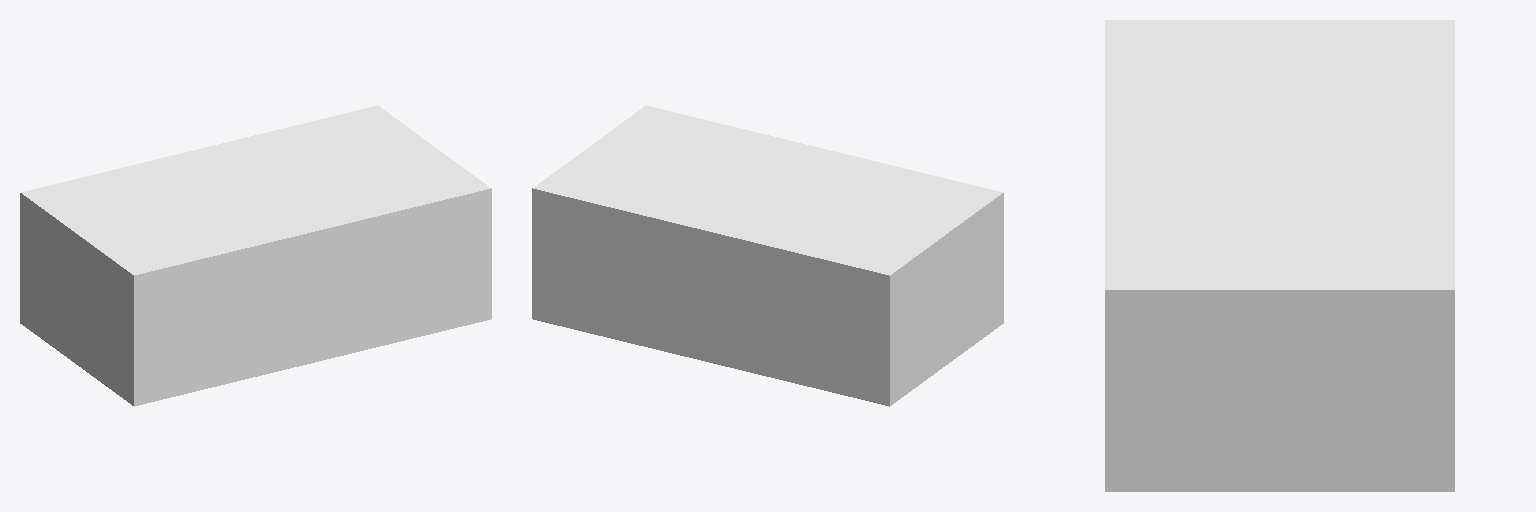
The robot description file, URDF, robot "slate.urdf":
<?xml version="0.0" ?>
<robot name="slate.urdf">
  <link name="baseLink">
    <contact>
      <lateral_friction value="1.0"/>
      <inertia_scaling value="3.0"/>
    </contact>
    <inertial>
      <origin rpy="0 0 0" xyz="0 0 0"/>
       <mass value=".05"/>
       <inertia ixx="1" ixy="0" ixz="0" iyy="1" iyz="0" izz="1"/>
    </inertial>
    <visual>
      <origin rpy="0 0 0" xyz="0 0 0"/>
      <geometry>
				<mesh filename="slate.obj" scale=".1 .055 .035"/>
      </geometry>
       <material name="white">
        <color rgba="1 1 1 1"/>
      </material>
    </visual>
    <collision>
      <origin rpy="0 0 0" xyz="0 0 0"/>
      <geometry>
	 	<box size=".1 .055 .035"/>
      </geometry>
    </collision>
  </link>
</robot>

--- What the picture shows (computed from the rendered views, not written in the file) ---
The picture shows the robot from 3 angles, left to right: view 1: azimuth 30°, elevation 25°; view 2: azimuth 150°, elevation 25°; view 3: azimuth 270°, elevation 25°; orthographic projection.
Model slate.urdf with 1 links and 0 joints (none), rooted at baseLink, posed all joints at 0.
Links seen in each view (by area): view 1: baseLink; view 2: baseLink; view 3: baseLink.
Boxes of the visible links, left/top/right/bottom form: baseLink: left=20, top=105, right=491, bottom=406; baseLink: left=532, top=105, right=1003, bottom=406; baseLink: left=1105, top=20, right=1454, bottom=491.
Bounding box of the posed robot: 0.1 × 0.055 × 0.035 m (x, y, z).
Meshes: 1 distinct files referenced, 1 mesh visuals loaded (1 OBJ).